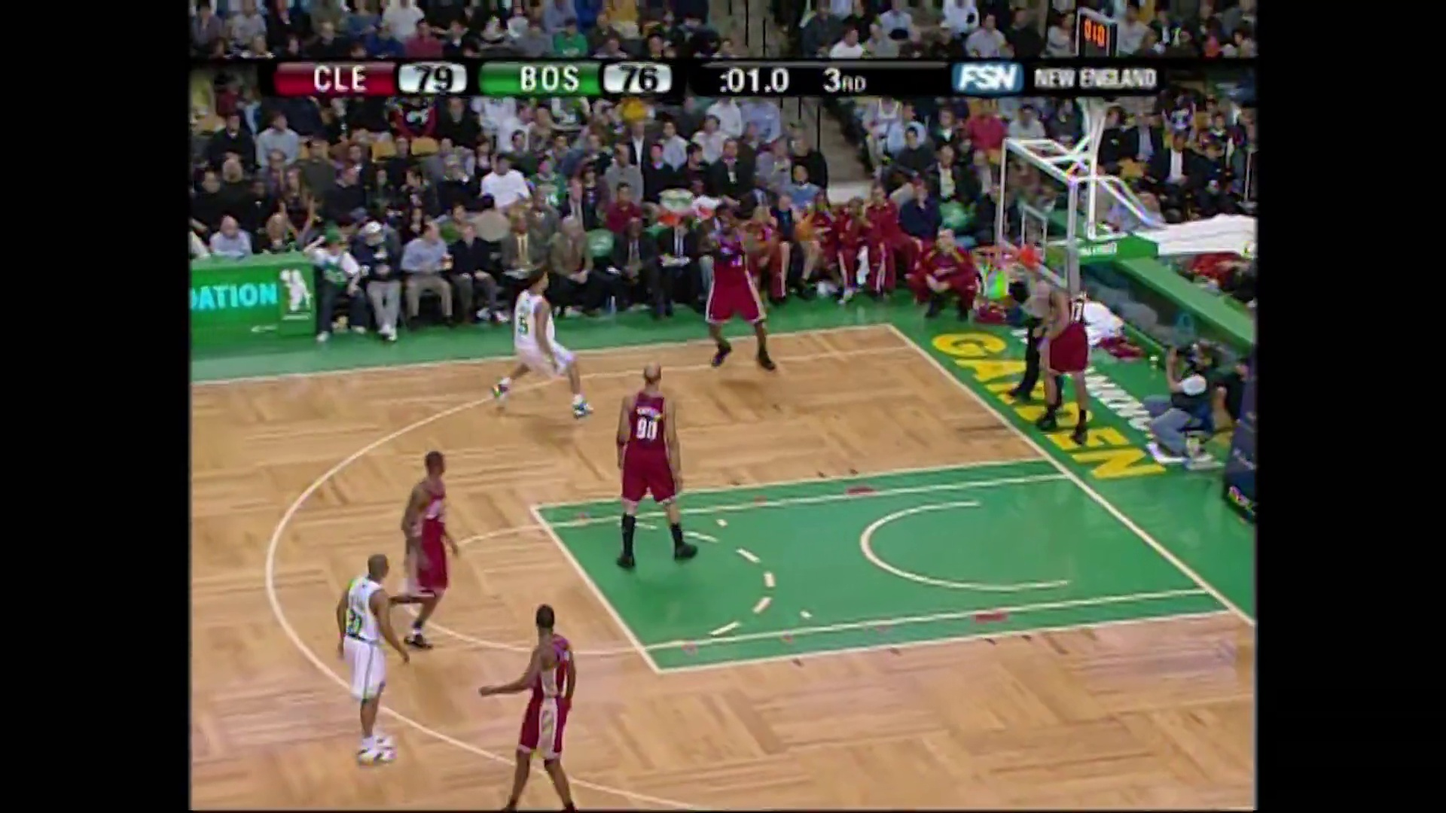basket_hoop: (928, 136, 1103, 304)
